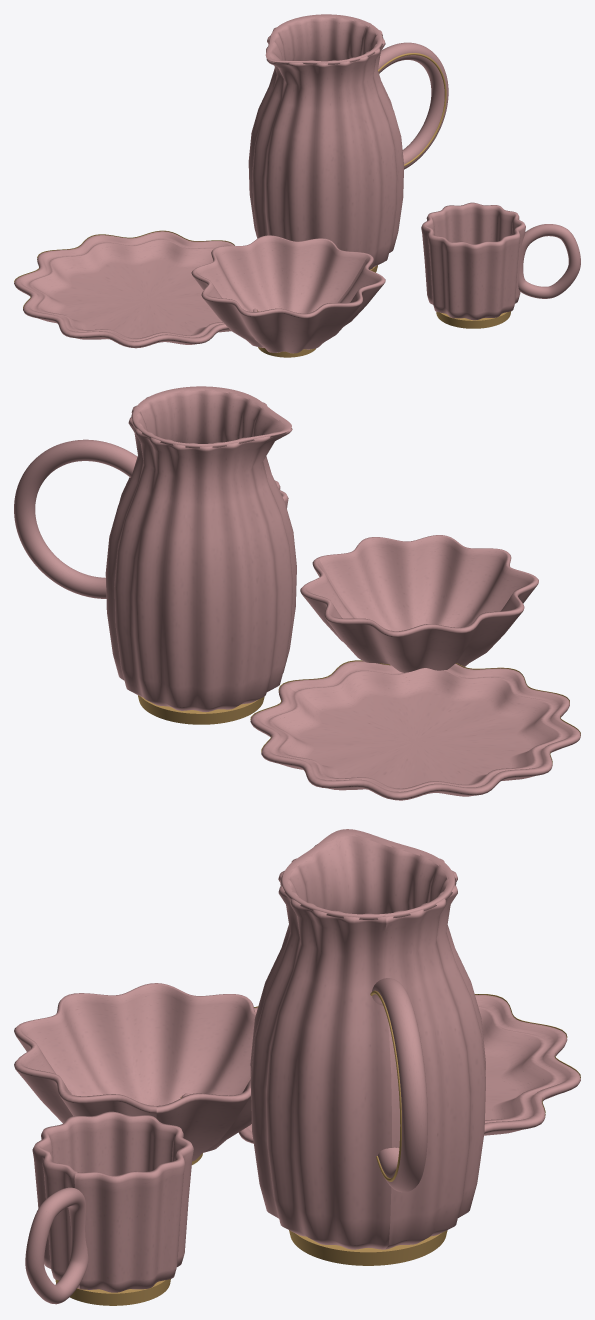
File: collection.glb
3 renders of one model, top to bottom at view 1: azimuth 30°, elevation 25°; view 2: azimuth 150°, elevation 25°; view 3: azimuth 270°, elevation 25°, orthographic. The views are drawn at different scales.
Parts seen in each view (by area): view 1: Pitcher ceramic shell, Plate double rim, Bowl scalloped shell, Cup ceramic shell, Pitcher circular handle, Cup ribbon handle, Pitcher rolled lip, Cup contrasting foot, Handle inset; view 2: Pitcher ceramic shell, Plate double rim, Bowl scalloped shell, Pitcher circular handle, Pitcher rolled lip, Pitcher contrasting foot; view 3: Pitcher ceramic shell, Bowl scalloped shell, Cup ceramic shell, Plate double rim, Pitcher circular handle, Cup ribbon handle, Pitcher contrasting foot, Pitcher rolled lip, Cup contrasting foot, Handle inset.
Boxes of the visible parts, x1,y1,x2,y2 form: Pitcher ceramic shell: [248, 17, 404, 269]; Plate double rim: [14, 231, 257, 348]; Bowl scalloped shell: [191, 235, 385, 353]; Cup ceramic shell: [421, 202, 525, 320]; Pitcher circular handle: [378, 42, 448, 169]; Cup ribbon handle: [518, 224, 580, 298]; Pitcher rolled lip: [265, 14, 383, 64]; Cup contrasting foot: [436, 311, 510, 328]; Handle inset: [378, 53, 446, 166]; Pitcher ceramic shell: [105, 389, 296, 711]; Plate double rim: [250, 661, 580, 800]; Bowl scalloped shell: [300, 535, 538, 672]; Pitcher circular handle: [14, 439, 137, 598]; Pitcher rolled lip: [131, 386, 291, 448]; Pitcher contrasting foot: [138, 695, 264, 724]; Pitcher ceramic shell: [250, 834, 485, 1249]; Bowl scalloped shell: [14, 983, 255, 1161]; Cup ceramic shell: [32, 1111, 193, 1292]; Plate double rim: [181, 995, 580, 1143]; Pitcher circular handle: [372, 978, 427, 1192]; Cup ribbon handle: [25, 1187, 88, 1304]; Pitcher contrasting foot: [289, 1230, 447, 1265]; Pitcher rolled lip: [280, 829, 456, 919]; Cup contrasting foot: [55, 1279, 170, 1305]; Handle inset: [370, 990, 401, 1181].
Size of the model in its own units: 0.5372 by 0.2706 by 0.3912.
Materials: 2 (1 with a texture image).
